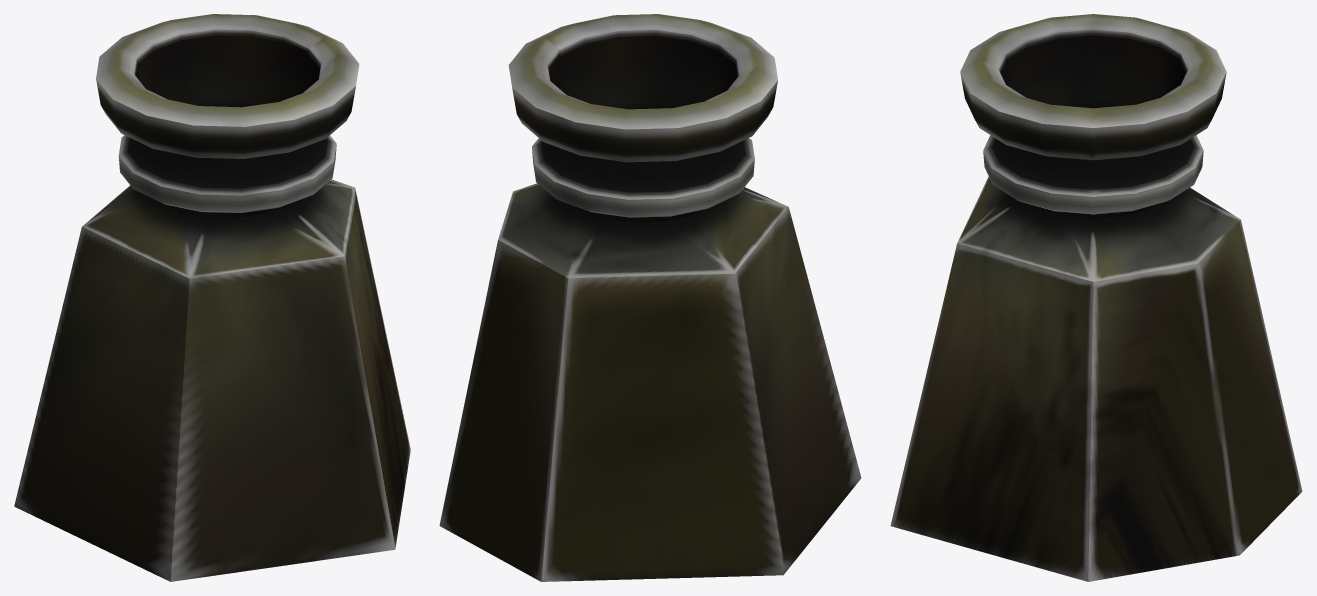
The model's file is SM_Ink.fbx.
3 renders of one model, left to right at view 1: azimuth 30°, elevation 25°; view 2: azimuth 150°, elevation 25°; view 3: azimuth 270°, elevation 25°, orthographic. The views are drawn at different scales.
Parts seen in each view (by area): view 1: SM_Ink_LOD0; view 2: SM_Ink_LOD0; view 3: SM_Ink_LOD0.
Boxes of the visible parts, box(x1,y1,x2,y2) form: SM_Ink_LOD0: box(14, 14, 410, 581); SM_Ink_LOD0: box(439, 14, 861, 581); SM_Ink_LOD0: box(890, 14, 1302, 581).
Bounding box in the file's own units: 8.8 × 8.8 × 10.19.
Materials: 1 (1 with a texture image).
